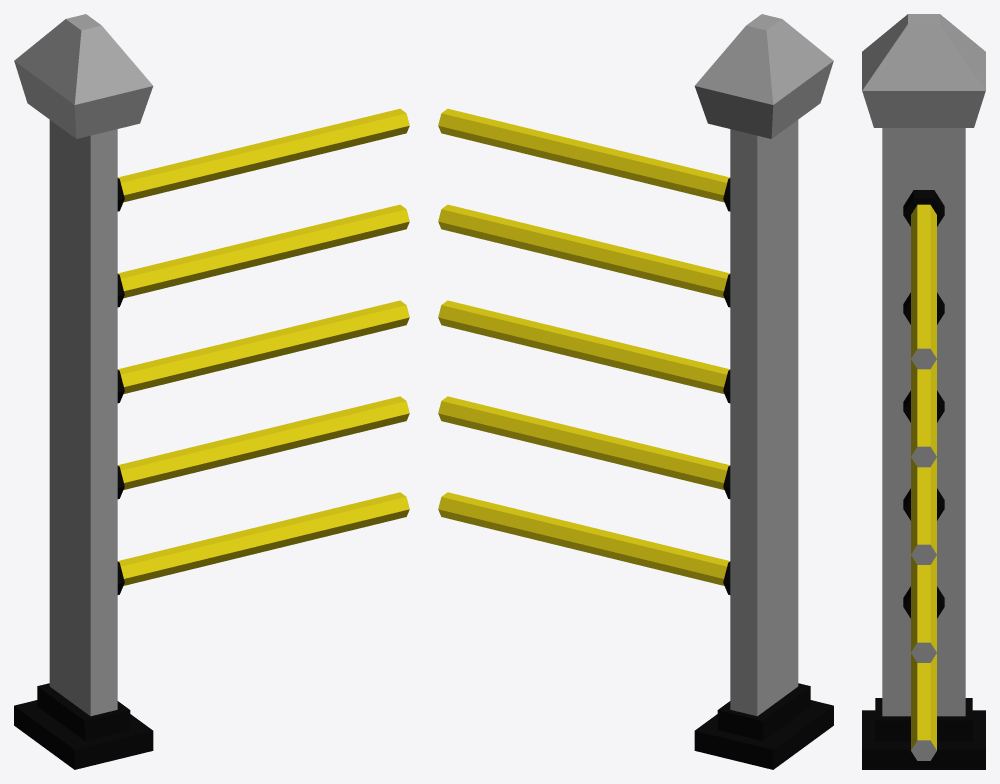
Rendered from HalfWall.fbx.
3 views of the same model, side by side, from view 1: azimuth 30°, elevation 25°; view 2: azimuth 150°, elevation 25°; view 3: azimuth 270°, elevation 25° (orthographic). The views are drawn at different scales.
Parts seen in each view (by area): view 1: Plane.003; view 2: Plane.003; view 3: Plane.003.
Part boxes in pixels (<box>): Plane.003: <box>14,14,409,769</box>; Plane.003: <box>438,14,833,769</box>; Plane.003: <box>862,14,985,769</box>.
Size of the model in its own units: 93.72 by 27.38 by 179.
